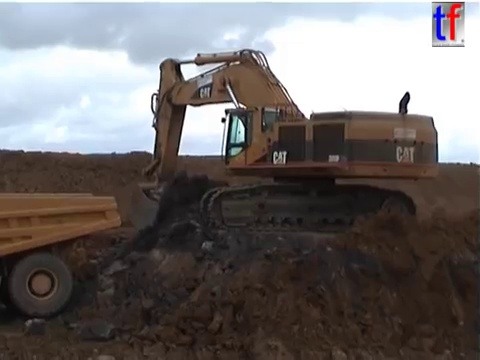excavator: (124, 45, 441, 240)
truck: (1, 188, 123, 317)
